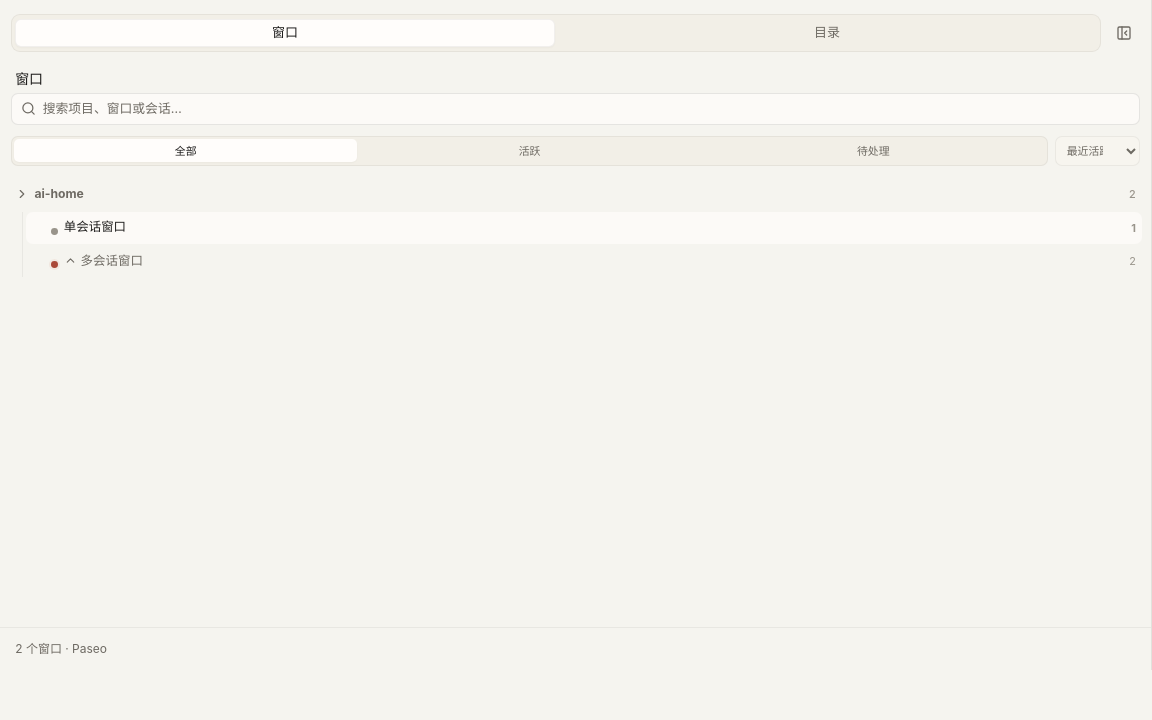
Test: PaseoNavigation › expands multi-agent workspaces and searches projects, windows and sessions
Step 1. Click the button "多会话窗口 2" → (112,260), box [64,252,1136,270]
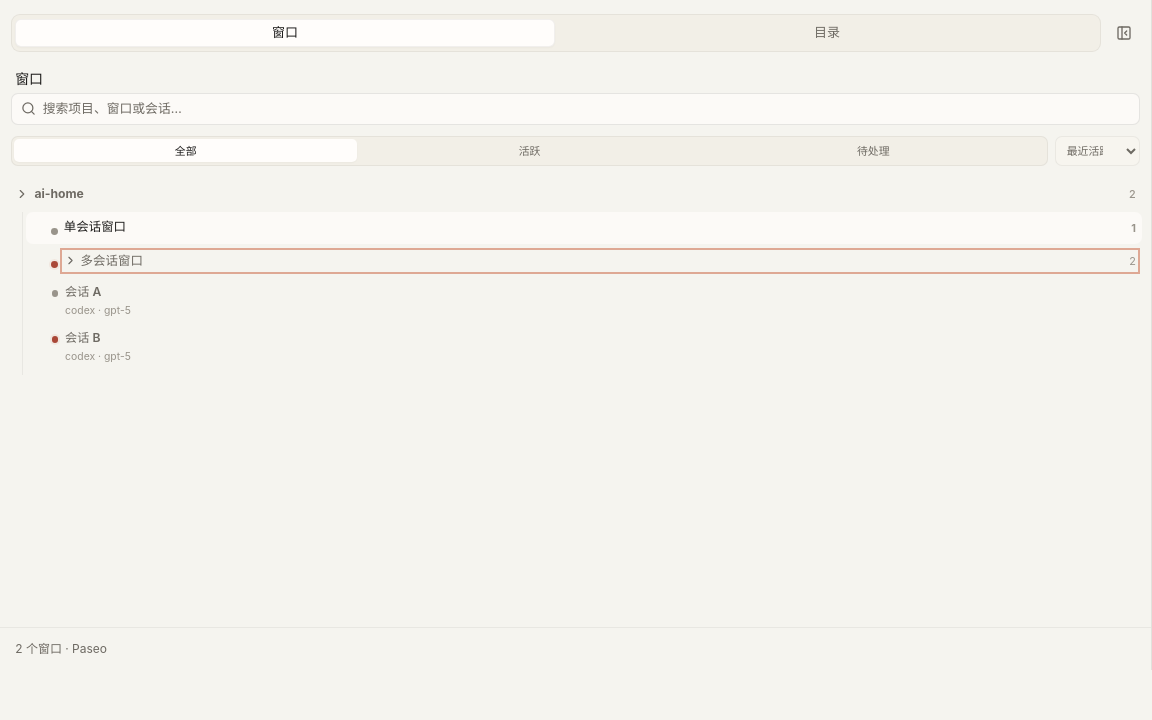
Expected: the button "多会话窗口 2" is expanded, [64,252,1136,270]
Expected: the 2nd picture named "等待处理" is shown, [52,336,58,343]
Step 2. Click the button "会话 B codex · gpt-5" → (83,338), box [45,324,1142,370]
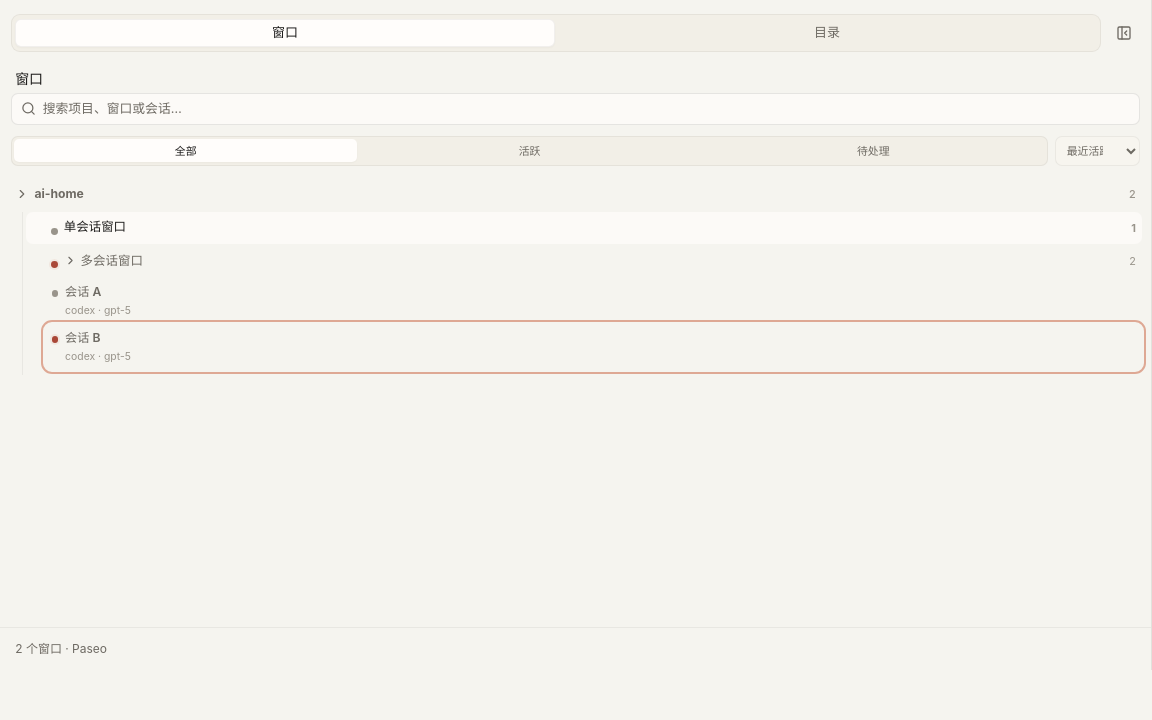
Step 3. Type "会话 A" into the search field named "搜索 Paseo 项目或窗口" → (586,109), box [43,94,1130,124]
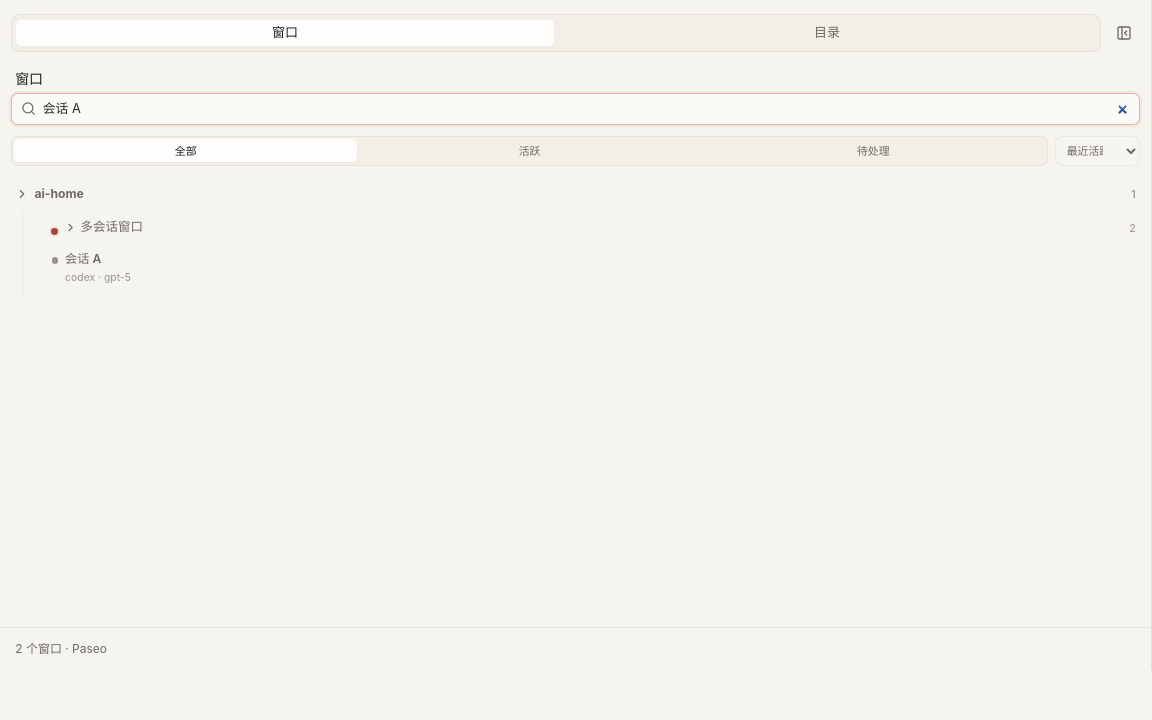
Expected: the button "会话 A codex · gpt-5" is shown, [45,244,1142,291]
Expected: the button "单会话窗口" is gone
Expected: the button "会话 B" is gone
